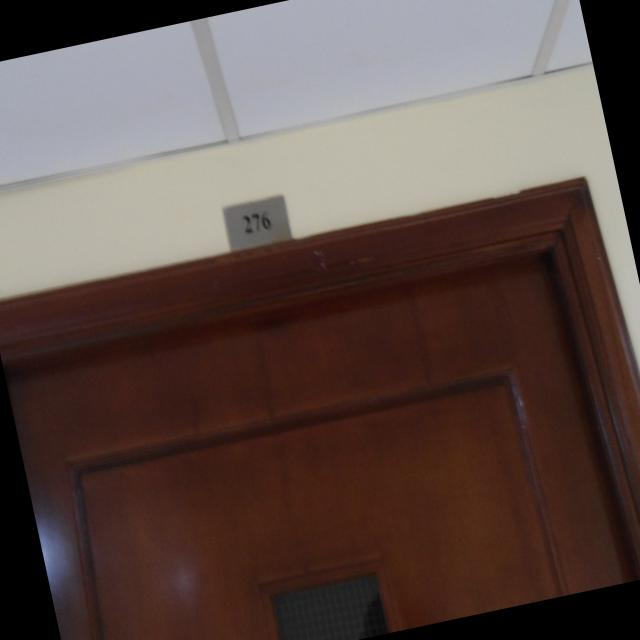door: (0, 179, 640, 640)
sign: (222, 195, 292, 250)
